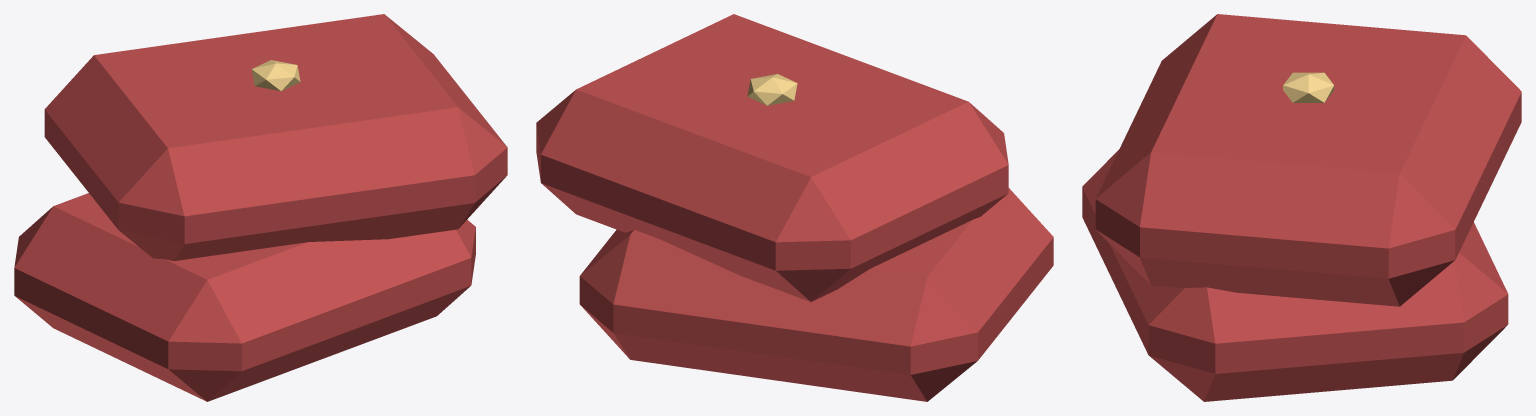
The model's file is cushions.glb.
3 views of the same model, side by side, from view 1: azimuth 30°, elevation 25°; view 2: azimuth 150°, elevation 25°; view 3: azimuth 270°, elevation 25° (orthographic). The views are drawn at different scales.
Parts seen in each view (by area): view 1: Silk cushion.001, Silk cushion, Cushion button.001; view 2: Silk cushion.001, Silk cushion, Cushion button.001; view 3: Silk cushion.001, Silk cushion, Cushion button.001.
Part boxes in pixels (x1=…): Silk cushion.001: x1=44, y1=14, x2=507, y2=260; Silk cushion: x1=14, y1=193, x2=475, y2=401; Cushion button.001: x1=251, y1=60, x2=300, y2=91; Silk cushion.001: x1=536, y1=14, x2=1008, y2=301; Silk cushion: x1=579, y1=188, x2=1053, y2=401; Cushion button.001: x1=747, y1=74, x2=797, y2=105; Silk cushion.001: x1=1095, y1=14, x2=1521, y2=306; Silk cushion: x1=1082, y1=150, x2=1508, y2=401; Cushion button.001: x1=1283, y1=72, x2=1334, y2=102.
Bounding box in the file's own units: 0.8021 × 0.442 × 0.6584.
